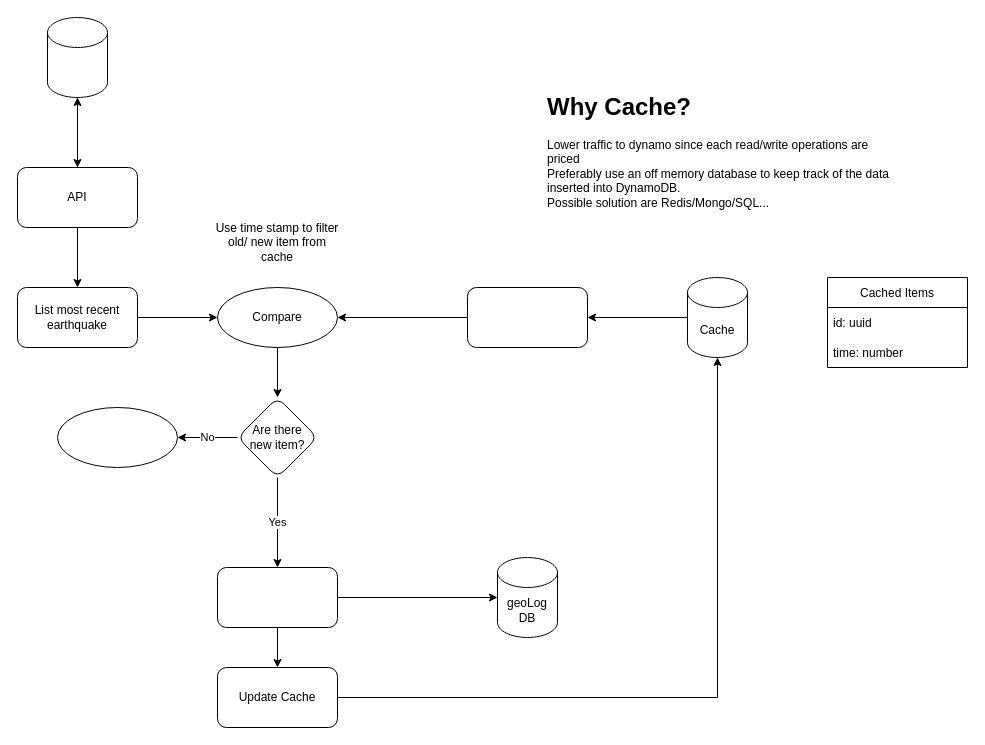
This 985x745 diagram has some shape labels left out. Here are the shapes that lost their labels. From the top down, the centre of each, then its label:
At (77,57): "USGS".
At (527,317): "Get latest cache item".
At (117,437): "Do Nothing".
At (277,597): "Add to Db".
